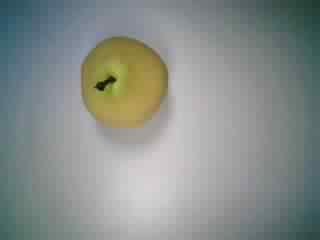pear: (67, 27, 178, 139)
